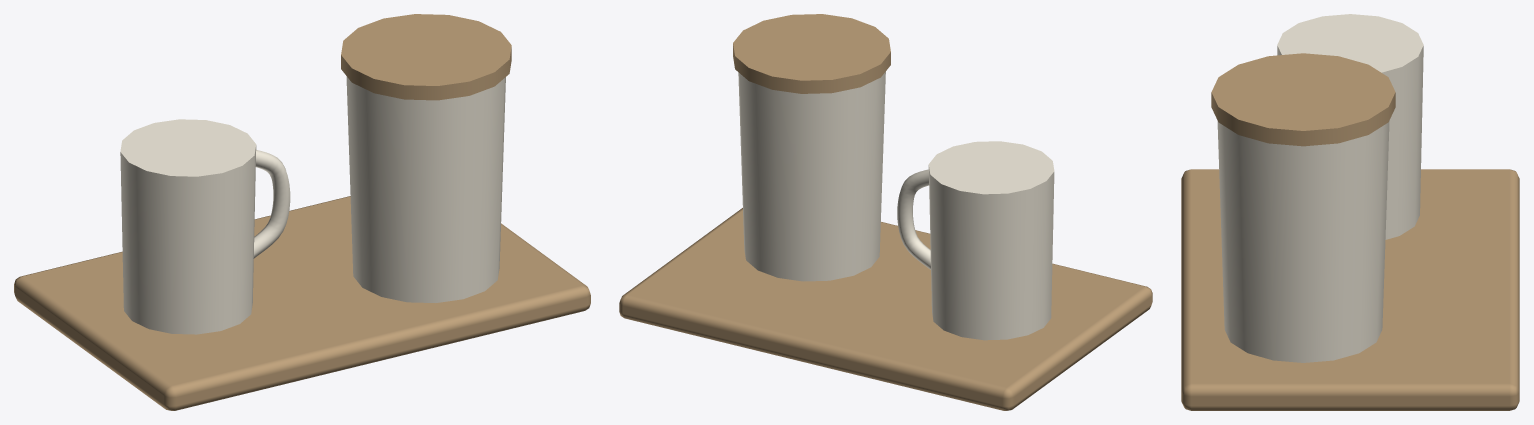
File: counter-set-balanced-cee65a26e6.glb
3 views of the same model, side by side, from view 1: azimuth 30°, elevation 25°; view 2: azimuth 150°, elevation 25°; view 3: azimuth 270°, elevation 25° (orthographic). The views are drawn at different scales.
Visible parts, largest first — view 1: ceramic, oak; view 2: oak, ceramic; view 3: oak, ceramic.
Part boxes in pixels (left/top/right/bottom): ceramic: left=120, top=76, right=505, bottom=334; oak: left=14, top=14, right=590, bottom=410; oak: left=619, top=14, right=1152, bottom=410; ceramic: left=738, top=71, right=1054, bottom=340; oak: left=1181, top=53, right=1519, bottom=410; ceramic: left=1217, top=14, right=1423, bottom=362.
Size of the model in its own units: 0.28 by 0.1555 by 0.18.
